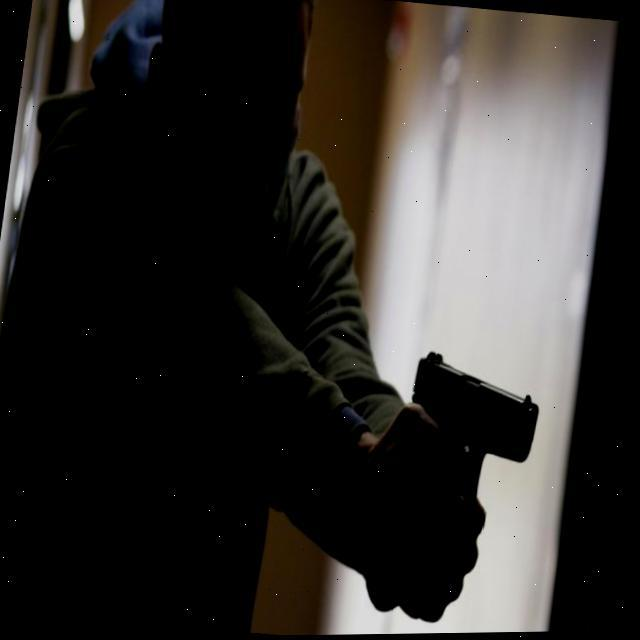gun: (404, 344, 550, 498)
